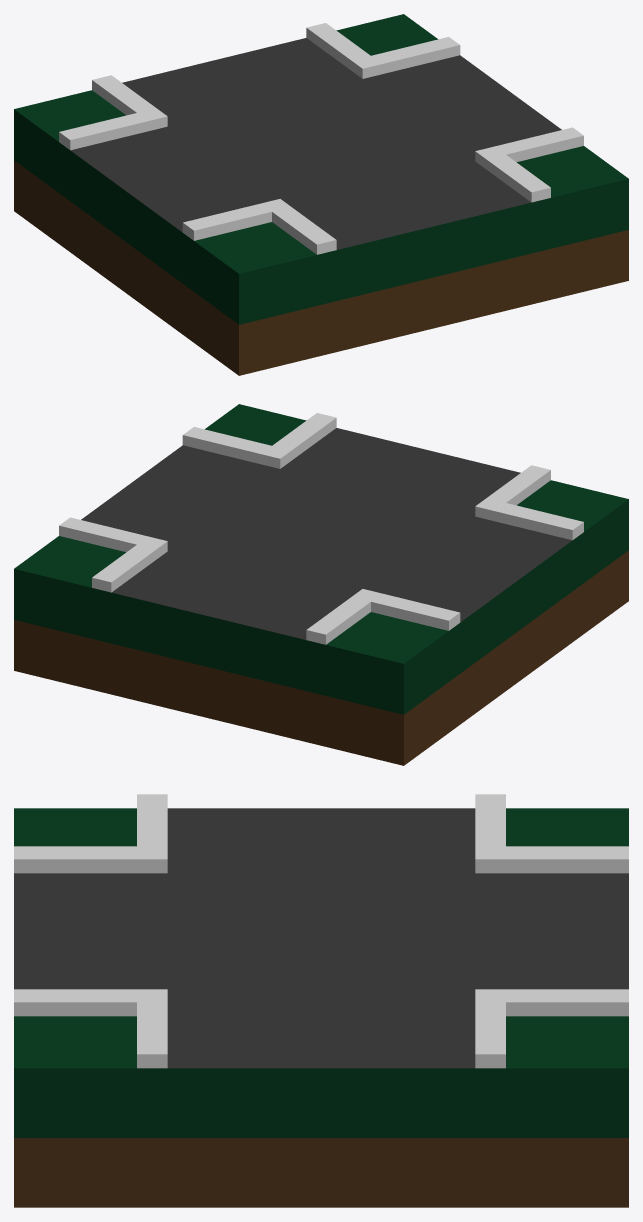
File: Block_6.fbx
The picture shows the model from 3 angles, top to bottom: view 1: azimuth 30°, elevation 25°; view 2: azimuth 150°, elevation 25°; view 3: azimuth 270°, elevation 25°; orthographic projection. The views are drawn at different scales.
Parts seen in each view (by area): view 1: Block_6; view 2: Block_6; view 3: Block_6.
Boxes of the visible parts, box(x1,y1,x2,y2) form: Block_6: box(14, 14, 628, 375); Block_6: box(14, 404, 628, 765); Block_6: box(14, 794, 628, 1207).
Size of the model in its own units: 400 by 110 by 400.
